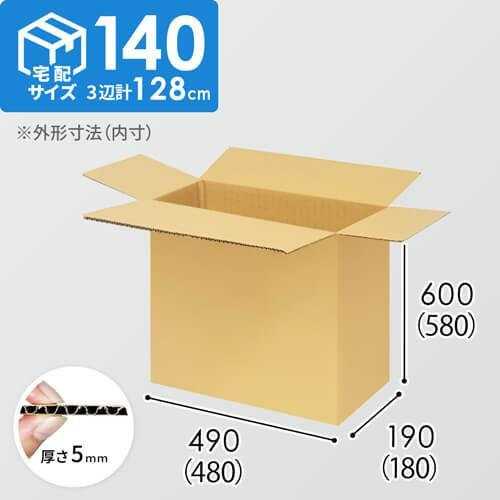box: (83, 143, 456, 433)
